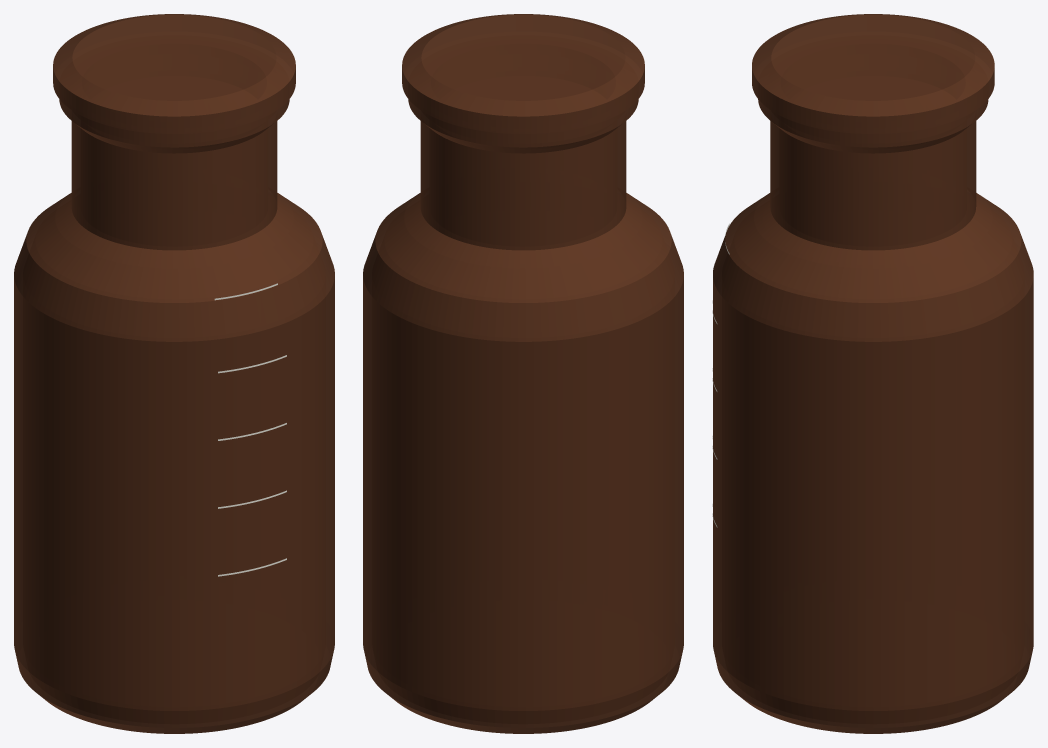
Rendered from preview.glb.
3 renders of one model, left to right at view 1: azimuth 30°, elevation 25°; view 2: azimuth 150°, elevation 25°; view 3: azimuth 270°, elevation 25°, orthographic.
Parts seen in each view (by area): view 1: Vessel_Vessel, Closure_Closure; view 2: Vessel_Vessel, Closure_Closure; view 3: Vessel_Vessel, Closure_Closure.
Boxes of the visible parts, x1=… form: Vessel_Vessel: x1=14, y1=99, x2=334, y2=733; Closure_Closure: x1=53, y1=14, x2=295, y2=133; Vessel_Vessel: x1=363, y1=99, x2=683, y2=733; Closure_Closure: x1=402, y1=14, x2=644, y2=133; Vessel_Vessel: x1=713, y1=99, x2=1033, y2=733; Closure_Closure: x1=752, y1=14, x2=994, y2=133.
Size of the model in its own units: 0.078 by 0.165 by 0.0781.
